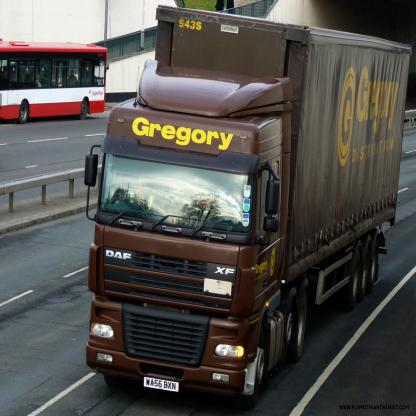Bus: (82, 7, 412, 408), (0, 36, 109, 124)
Truck: (88, 8, 400, 408)
